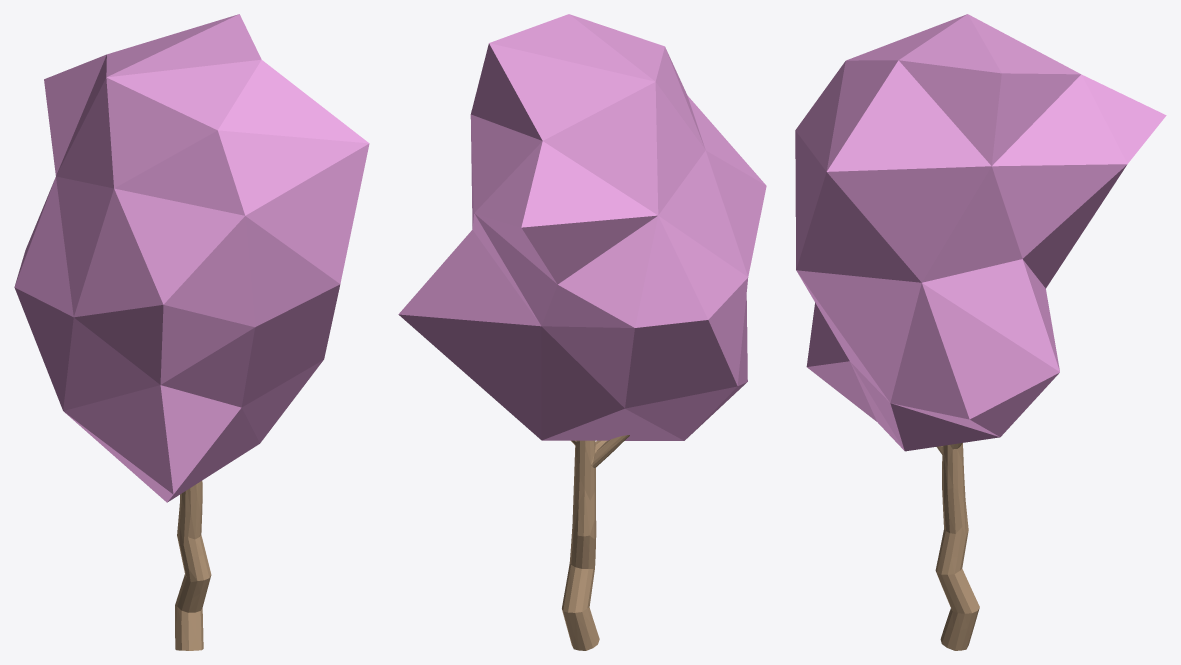
Rendered from treePink.fbx.
3 views of the same model, side by side, from view 1: azimuth 30°, elevation 25°; view 2: azimuth 150°, elevation 25°; view 3: azimuth 270°, elevation 25° (orthographic).
Visible parts, largest first — view 1: tree1leaves; view 2: tree1leaves; view 3: tree1leaves.
Part boxes in pixels (x1,y1,x2,y2): tree1leaves: [14, 14, 369, 650]; tree1leaves: [398, 14, 766, 650]; tree1leaves: [795, 14, 1166, 650].
Bounding box in the file's own units: 237 × 456 × 252.
